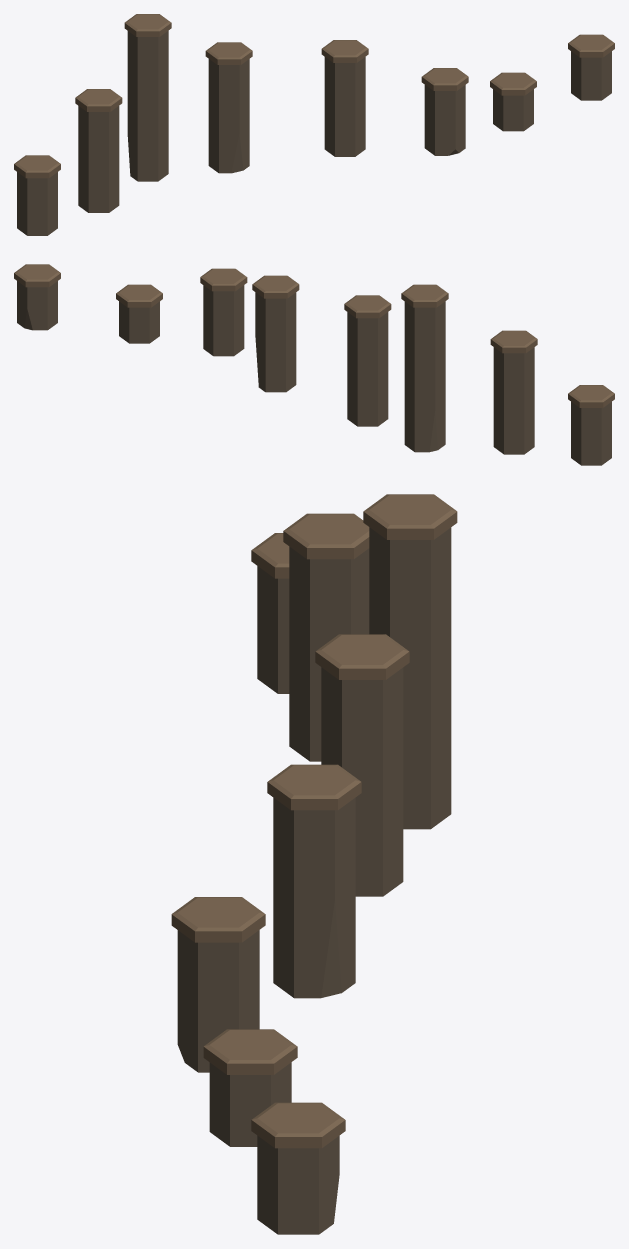
The model's file is SM_Props_City_PlayGround_Equipment_03.fbx.
3 renders of one model, top to bottom at view 1: azimuth 30°, elevation 25°; view 2: azimuth 150°, elevation 25°; view 3: azimuth 270°, elevation 25°, orthographic. The views are drawn at different scales.
Visible parts, largest first — view 1: SM_Props_City_PlayGround_Equipment_03; view 2: SM_Props_City_PlayGround_Equipment_03; view 3: SM_Props_City_PlayGround_Equipment_03.
Boxes of the visible parts, x1,y1,x2,y2 form: SM_Props_City_PlayGround_Equipment_03: (14, 14, 614, 235); SM_Props_City_PlayGround_Equipment_03: (14, 264, 614, 465); SM_Props_City_PlayGround_Equipment_03: (171, 494, 457, 1234).
Size of the model in its own units: 340 by 84 by 71.53.
